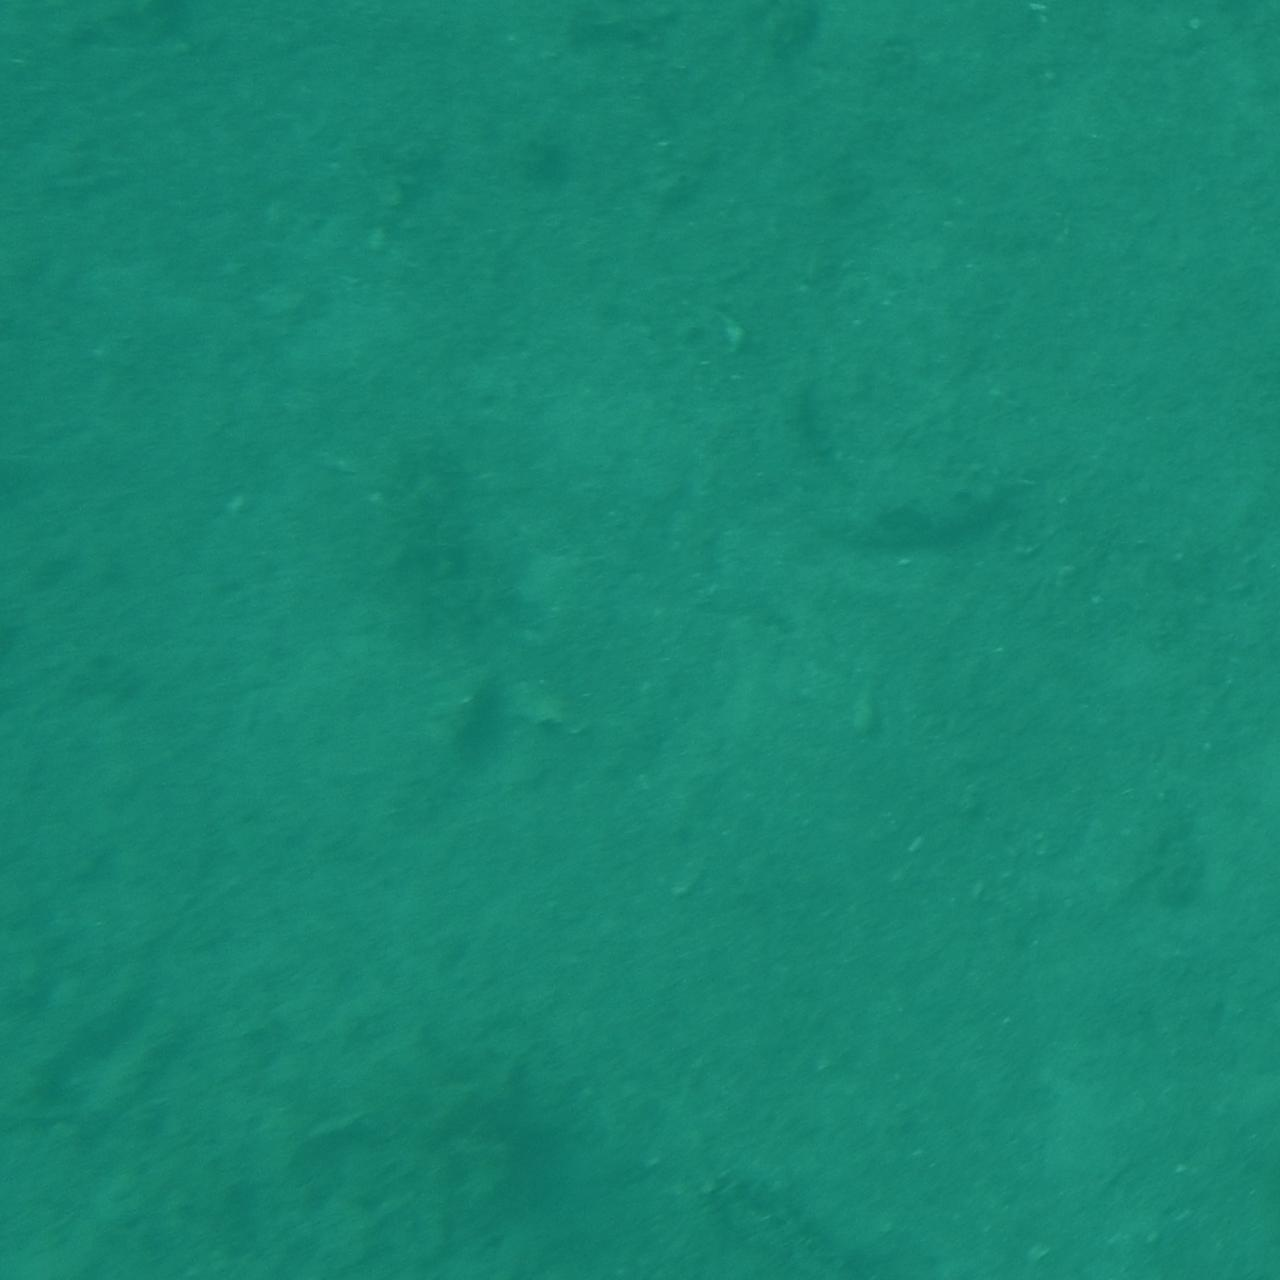Holothuria tubulosa: (765, 358, 1024, 545), (688, 1157, 933, 1280), (484, 0, 635, 134), (272, 1227, 498, 1280)
